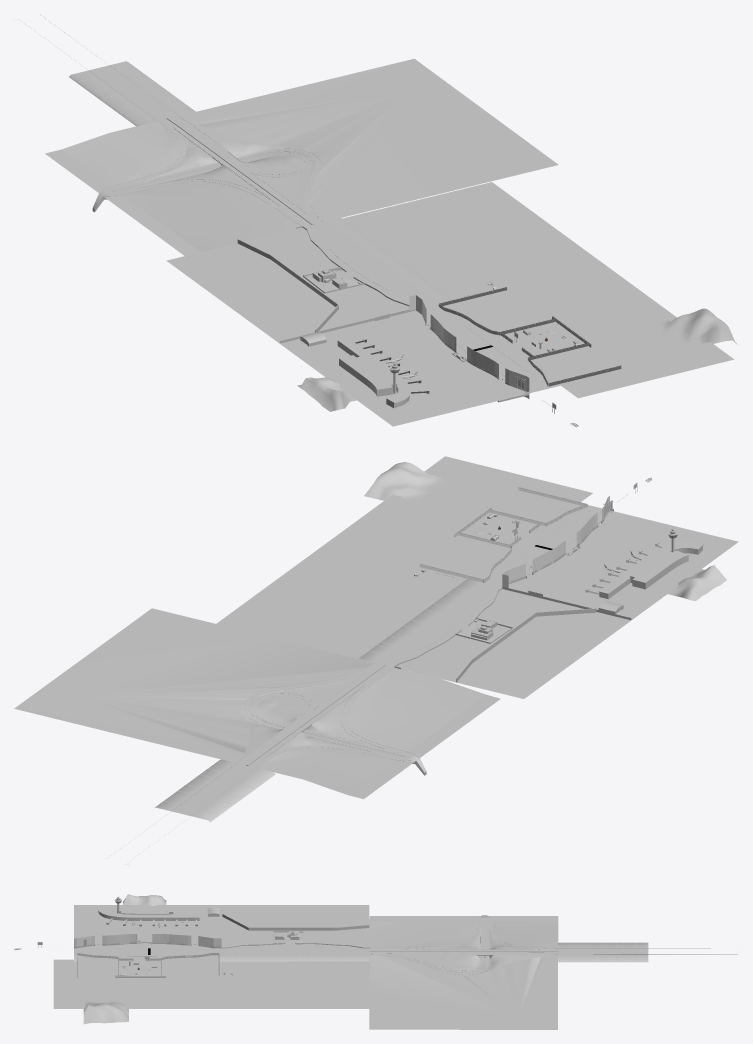
The model's file is airport.fbx.
The picture shows the model from 3 angles, top to bottom: view 1: azimuth 30°, elevation 25°; view 2: azimuth 150°, elevation 25°; view 3: azimuth 270°, elevation 25°; orthographic projection. The views are drawn at different scales.
Parts seen in each view (by area): view 1: highway turn jun, Plane002, Plane163, Plane004, Plane182, Object375777, strt line road 006, airport_, Object375772, Object375771, Object375798, smoth link road002 (+5 smaller); view 2: highway turn jun, Plane002, Plane163, Plane182, Plane004, Object375777, airport_, strt line road 006, Object375772, Object375771, Object375798, green_belt_ (+5 smaller); view 3: highway turn jun, Plane002, Plane163, Plane182, Plane004, Object375777, strt line road 006, Object375772, airport_, Object375771, smoth link road002, Object375798 (+5 smaller).
Boxes of the visible parts, x1,y1,x2,y2 form: highway turn jun: (45,58,558,255); Plane002: (342,182,734,398); Plane163: (166,227,409,343); Plane004: (280,310,529,426); Plane182: (443,277,666,383); Object375777: (305,218,452,309); strt line road 006: (69,61,195,126); airport_: (297,337,429,411); Object375772: (180,117,321,218); Object375771: (163,116,323,238); Object375798: (112,119,299,225); smoth link road002: (426,307,567,392); highway turn jun: (14,608,500,798); Plane002: (216,456,592,658); Plane163: (396,589,630,698); Plane182: (372,479,581,579); Plane004: (508,511,738,620); Object375777: (358,579,501,667); airport_: (585,528,726,601); strt line road 006: (155,759,275,822); Object375772: (238,665,370,762); Object375771: (237,663,439,765); Object375798: (249,669,406,768); green_belt_: (364,462,447,502); highway turn jun: (369,916,558,1029); Plane002: (53,959,369,1008); Plane163: (221,905,369,947); Plane182: (76,955,219,992); Plane004: (74,905,221,945); Object375777: (219,944,369,961); strt line road 006: (558,942,648,962); Object375772: (374,953,556,975); airport_: (97,894,199,926); Object375771: (369,933,557,955); smoth link road002: (74,946,218,961); Object375798: (373,921,557,958).
Size of the model in its own units: 1017 by 115 by 2345.
